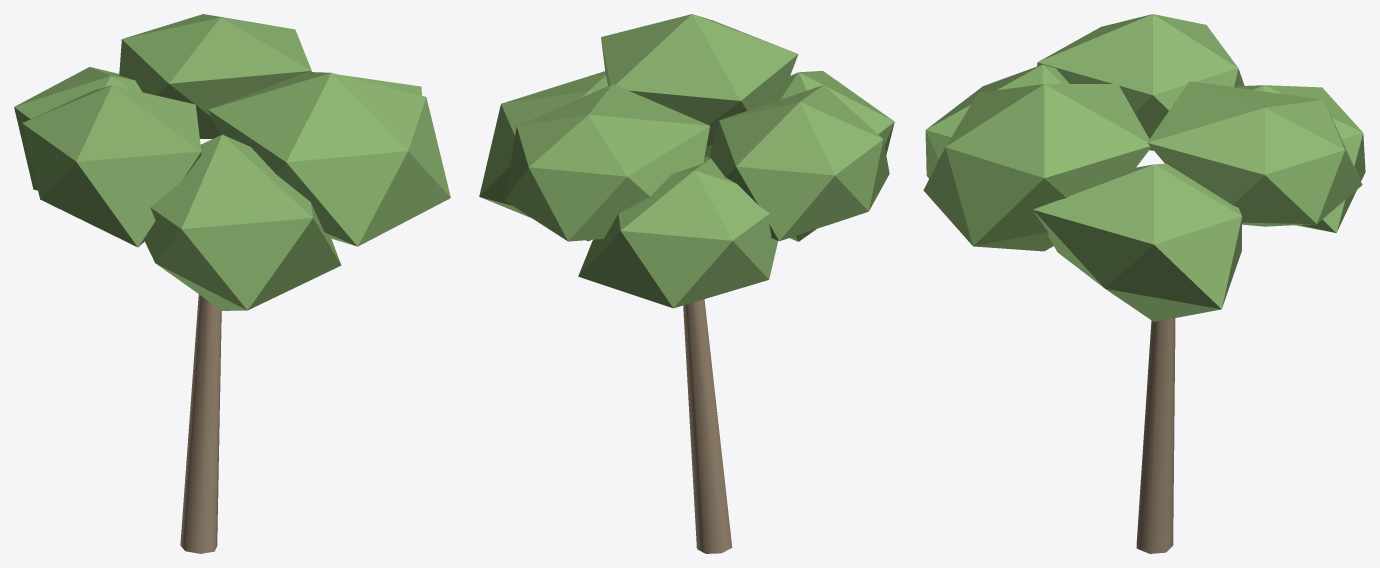
Rendered from acacia.glb.
3 renders of one model, left to right at view 1: azimuth 30°, elevation 25°; view 2: azimuth 150°, elevation 25°; view 3: azimuth 270°, elevation 25°, orthographic. The views are drawn at different scales.
Parts seen in each view (by area): view 1: acacia; view 2: acacia; view 3: acacia.
Part boxes in pixels (x1,y1,x2,y2): acacia: (14,14,450,553); acacia: (479,14,894,553); acacia: (923,14,1365,553).
Size of the model in its own units: 6.96 by 8.65 by 6.92.
